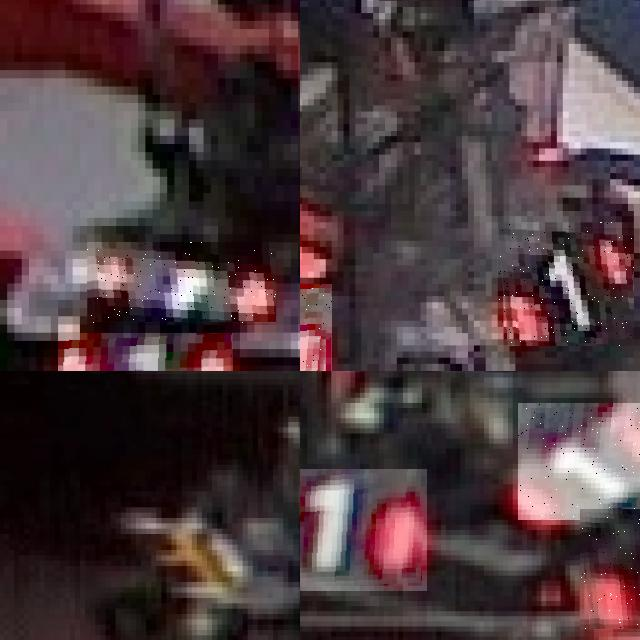R1: (497, 222, 634, 346), (87, 242, 276, 324), (300, 469, 426, 591), (517, 403, 640, 520), (579, 509, 640, 631), (58, 332, 232, 371)
